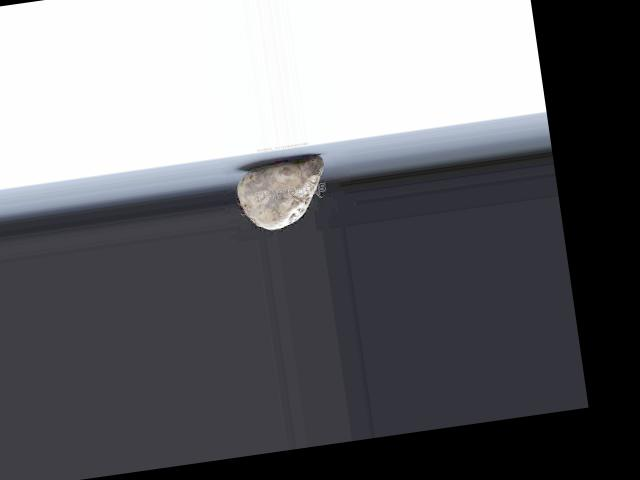beet: (232, 155, 329, 233)
